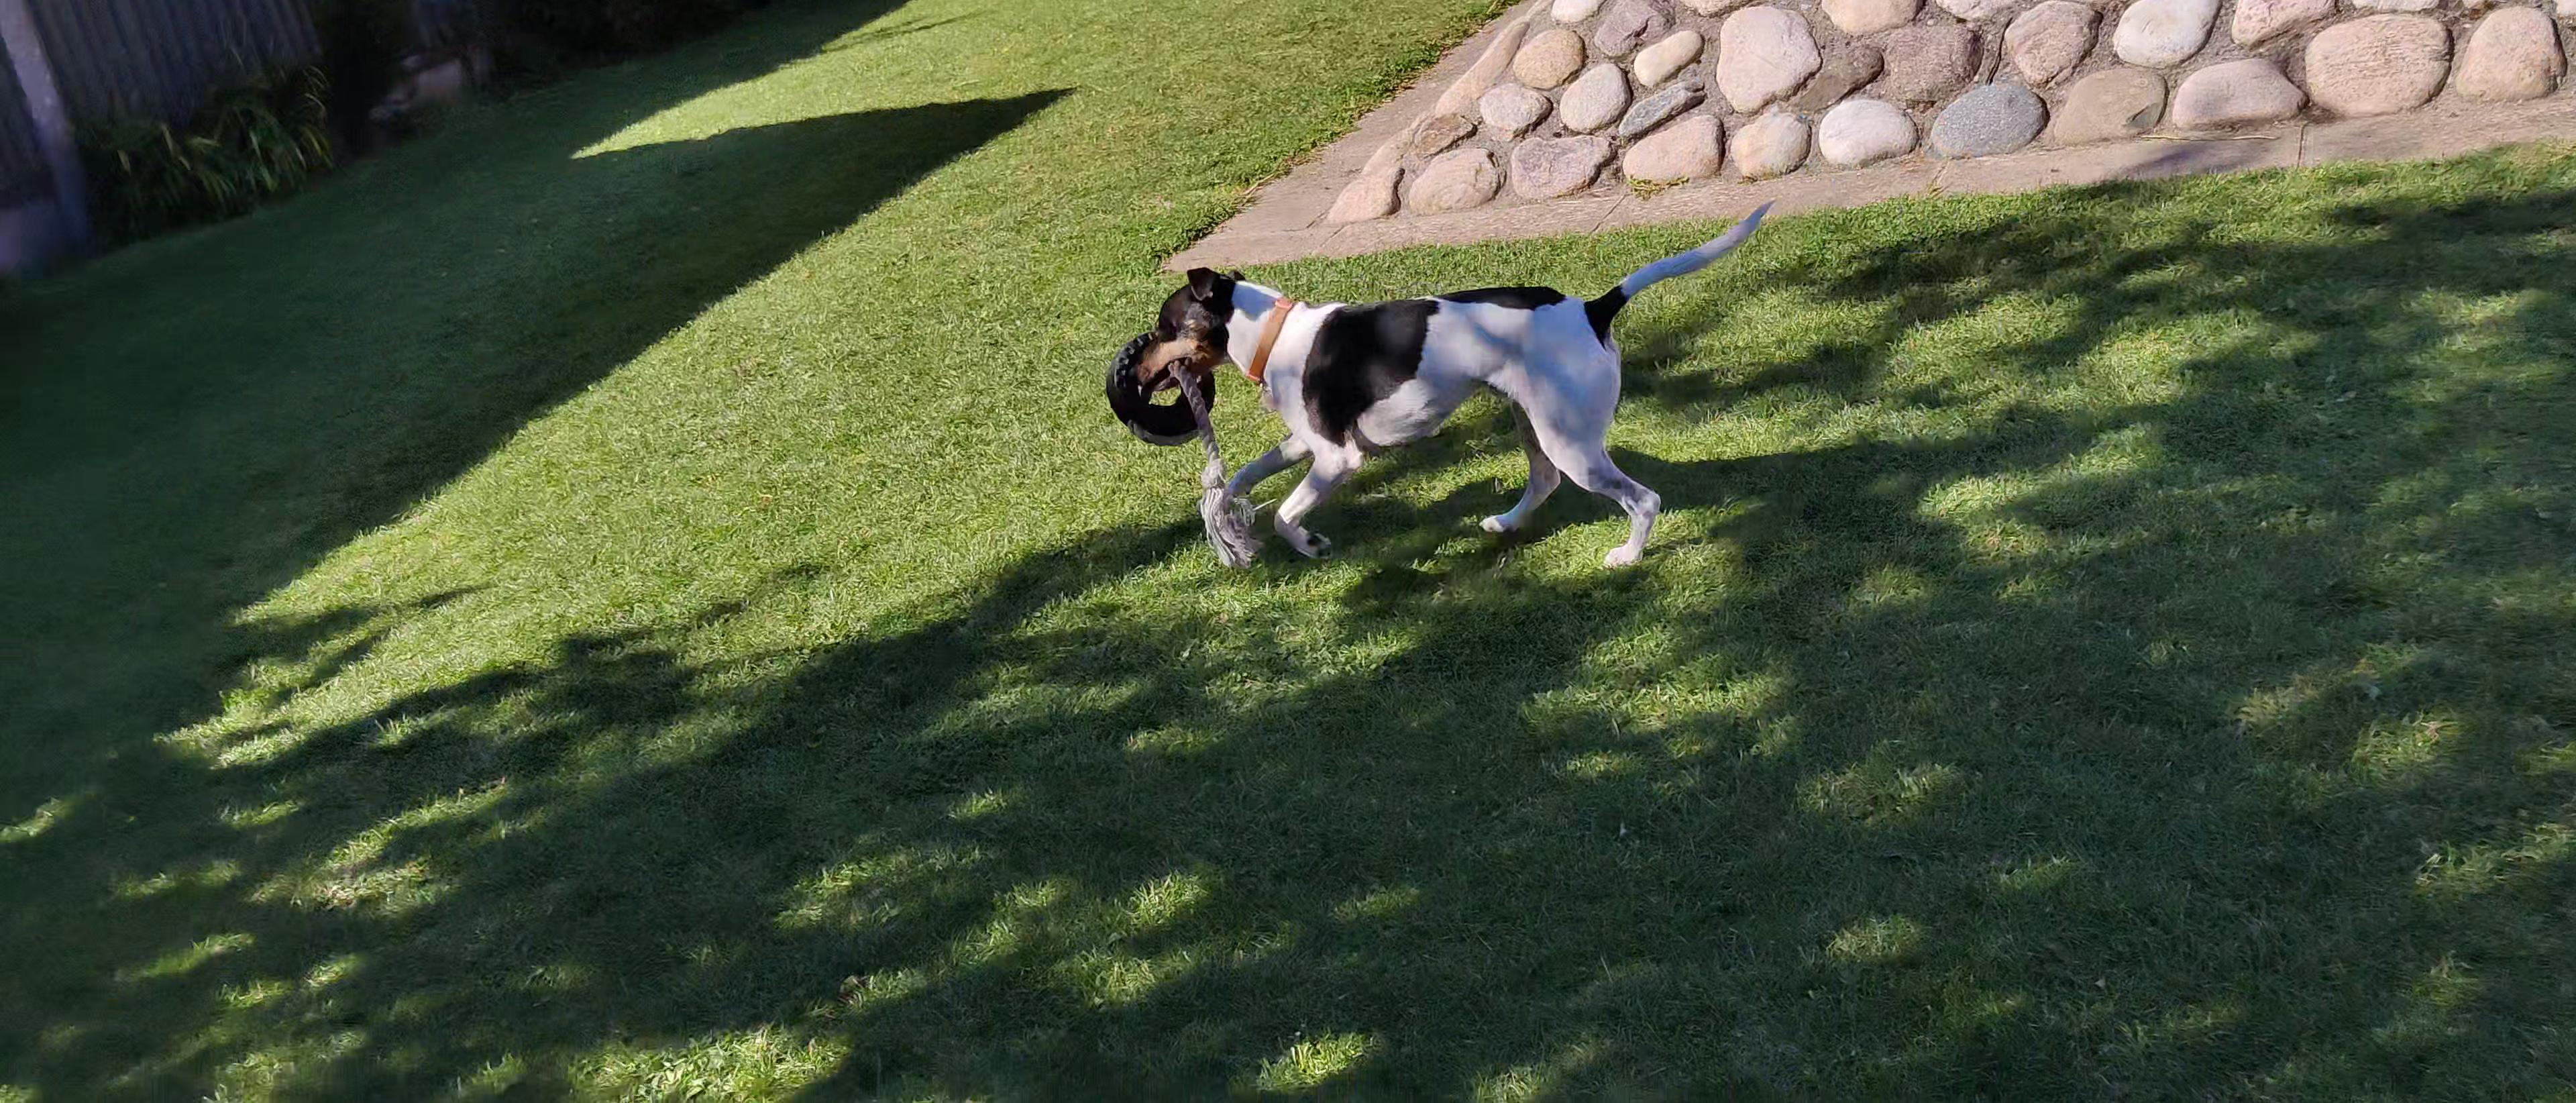Dog: (1119, 194, 1784, 579)
